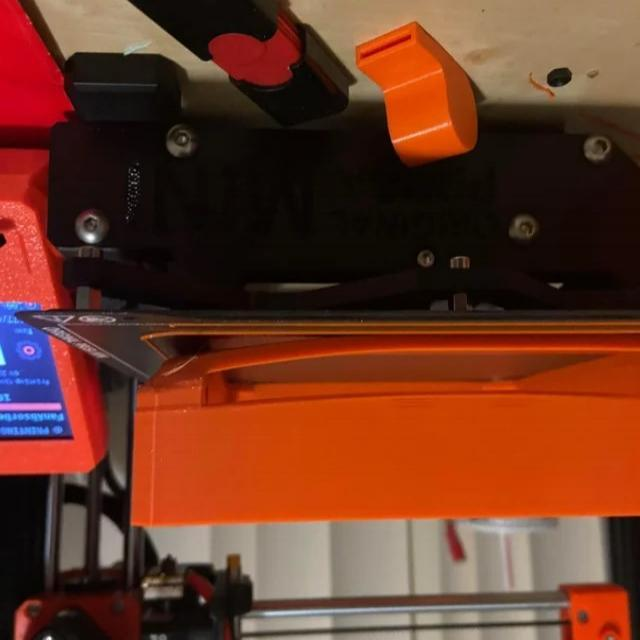Warping: (158, 342, 244, 374)
